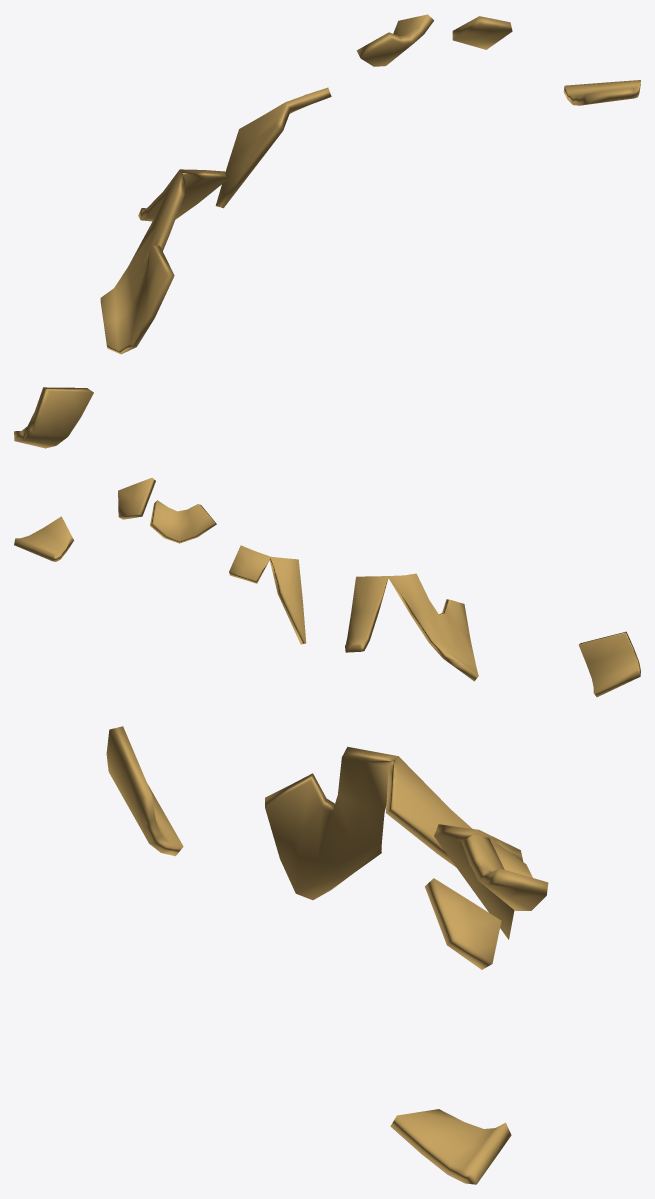
The picture shows the model from 3 angles, top to bottom: view 1: azimuth 30°, elevation 25°; view 2: azimuth 150°, elevation 25°; view 3: azimuth 270°, elevation 25°; orthographic projection. The views are drawn at different scales.
Visible parts, largest first — view 1: 右侧腕掌掌侧韧带; view 2: 右侧腕掌掌侧韧带; view 3: 右侧腕掌掌侧韧带.
Part boxes in pixels (x1,y1,x2,y2): 右侧腕掌掌侧韧带: (14, 14, 640, 448); 右侧腕掌掌侧韧带: (14, 477, 640, 697); 右侧腕掌掌侧韧带: (106, 726, 548, 1184).
Bounding box in the file's own units: 0.0632 × 0.0195 × 0.0224.
